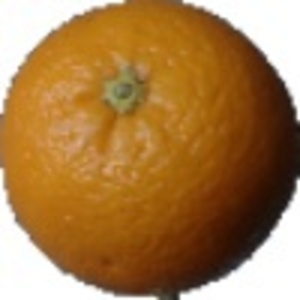laranja: (3, 4, 297, 299)
